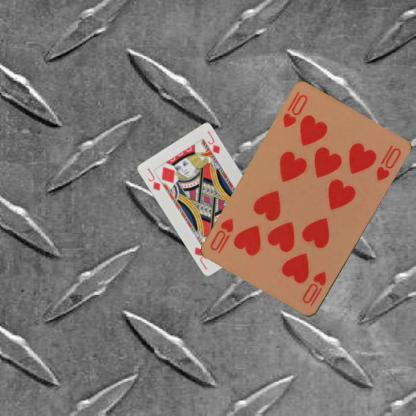10h: (280, 89, 309, 129), (299, 269, 328, 308)
Jd: (145, 165, 162, 192)
